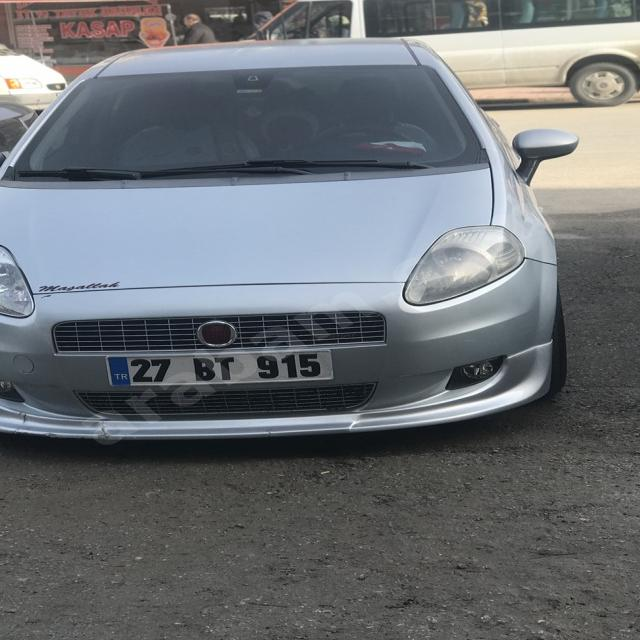license_plate: (106, 349, 336, 386)
